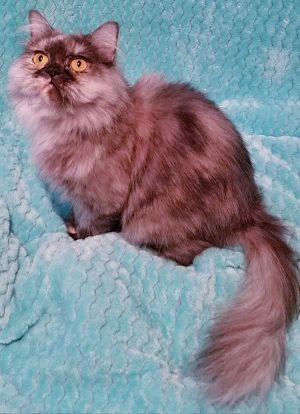persian: (1, 1, 141, 136)
